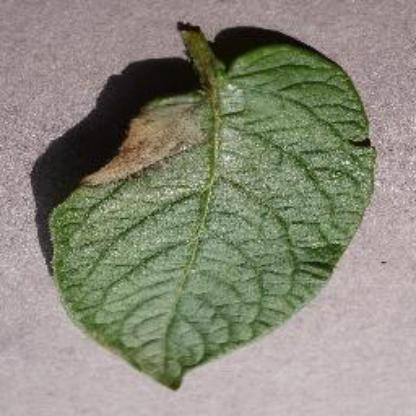Late-Blight: (42, 29, 378, 391)
